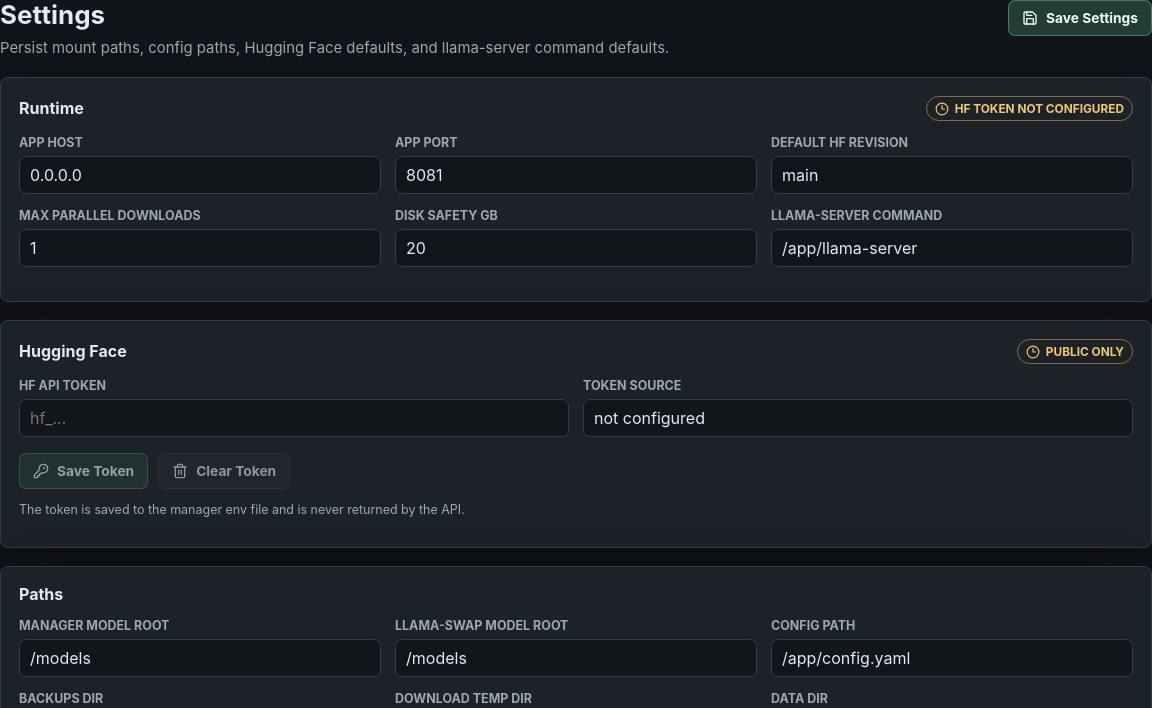
SettingsPage › saves the HF token through the secret endpoint and clears the field
Type "hf_test_token" into the password field labelled "HF API token" at (294, 418), box [19,399,569,437]
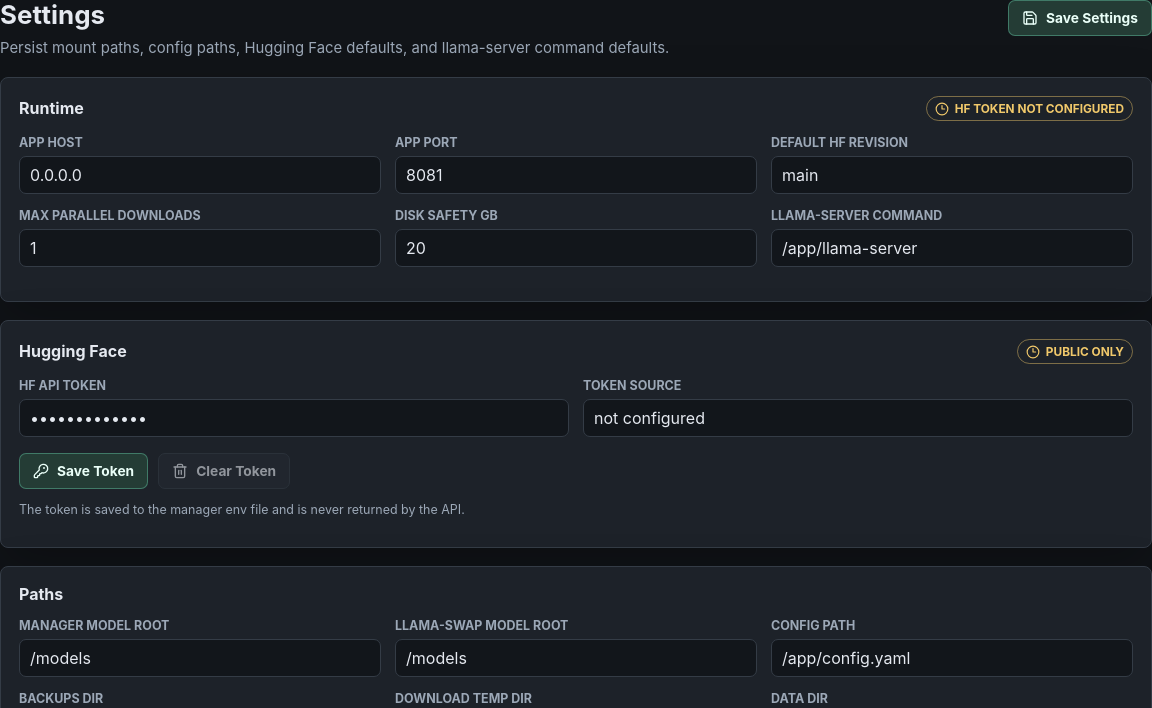
Click the button "Save Token" at (84, 471), box [19,453,148,489]
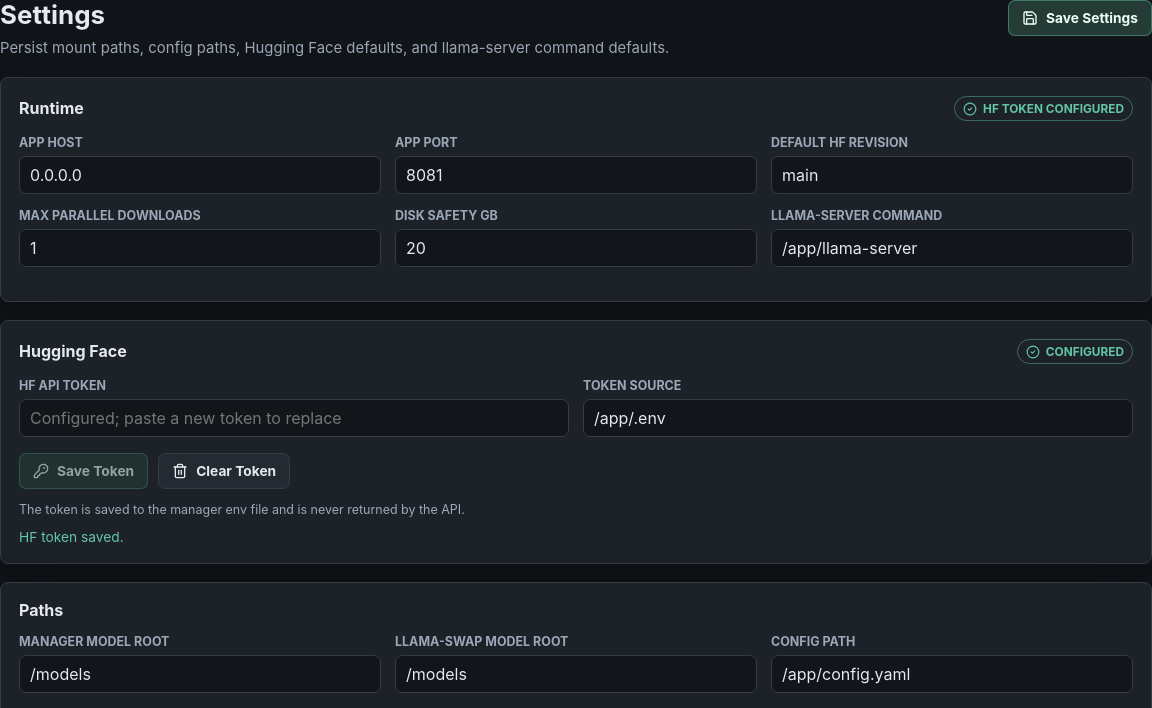
Expected: the field showing "/app/.env" is shown, [583,399,1133,437]
